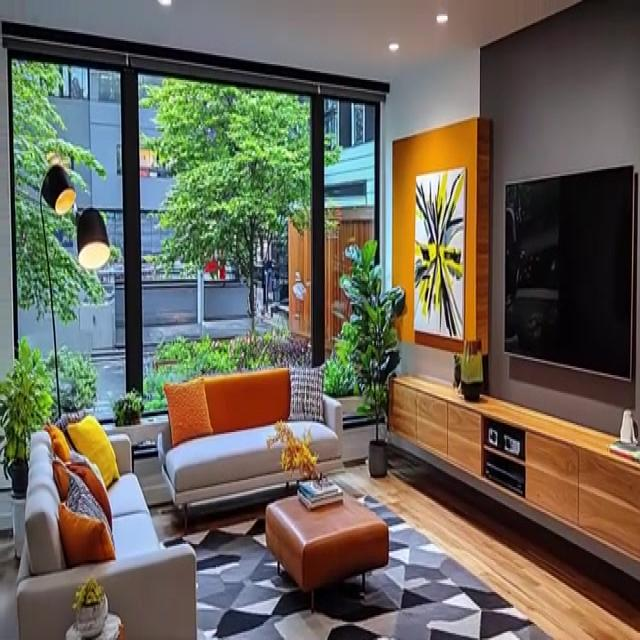obstacle: (387, 372, 639, 583), (15, 412, 197, 638), (156, 362, 344, 530)
